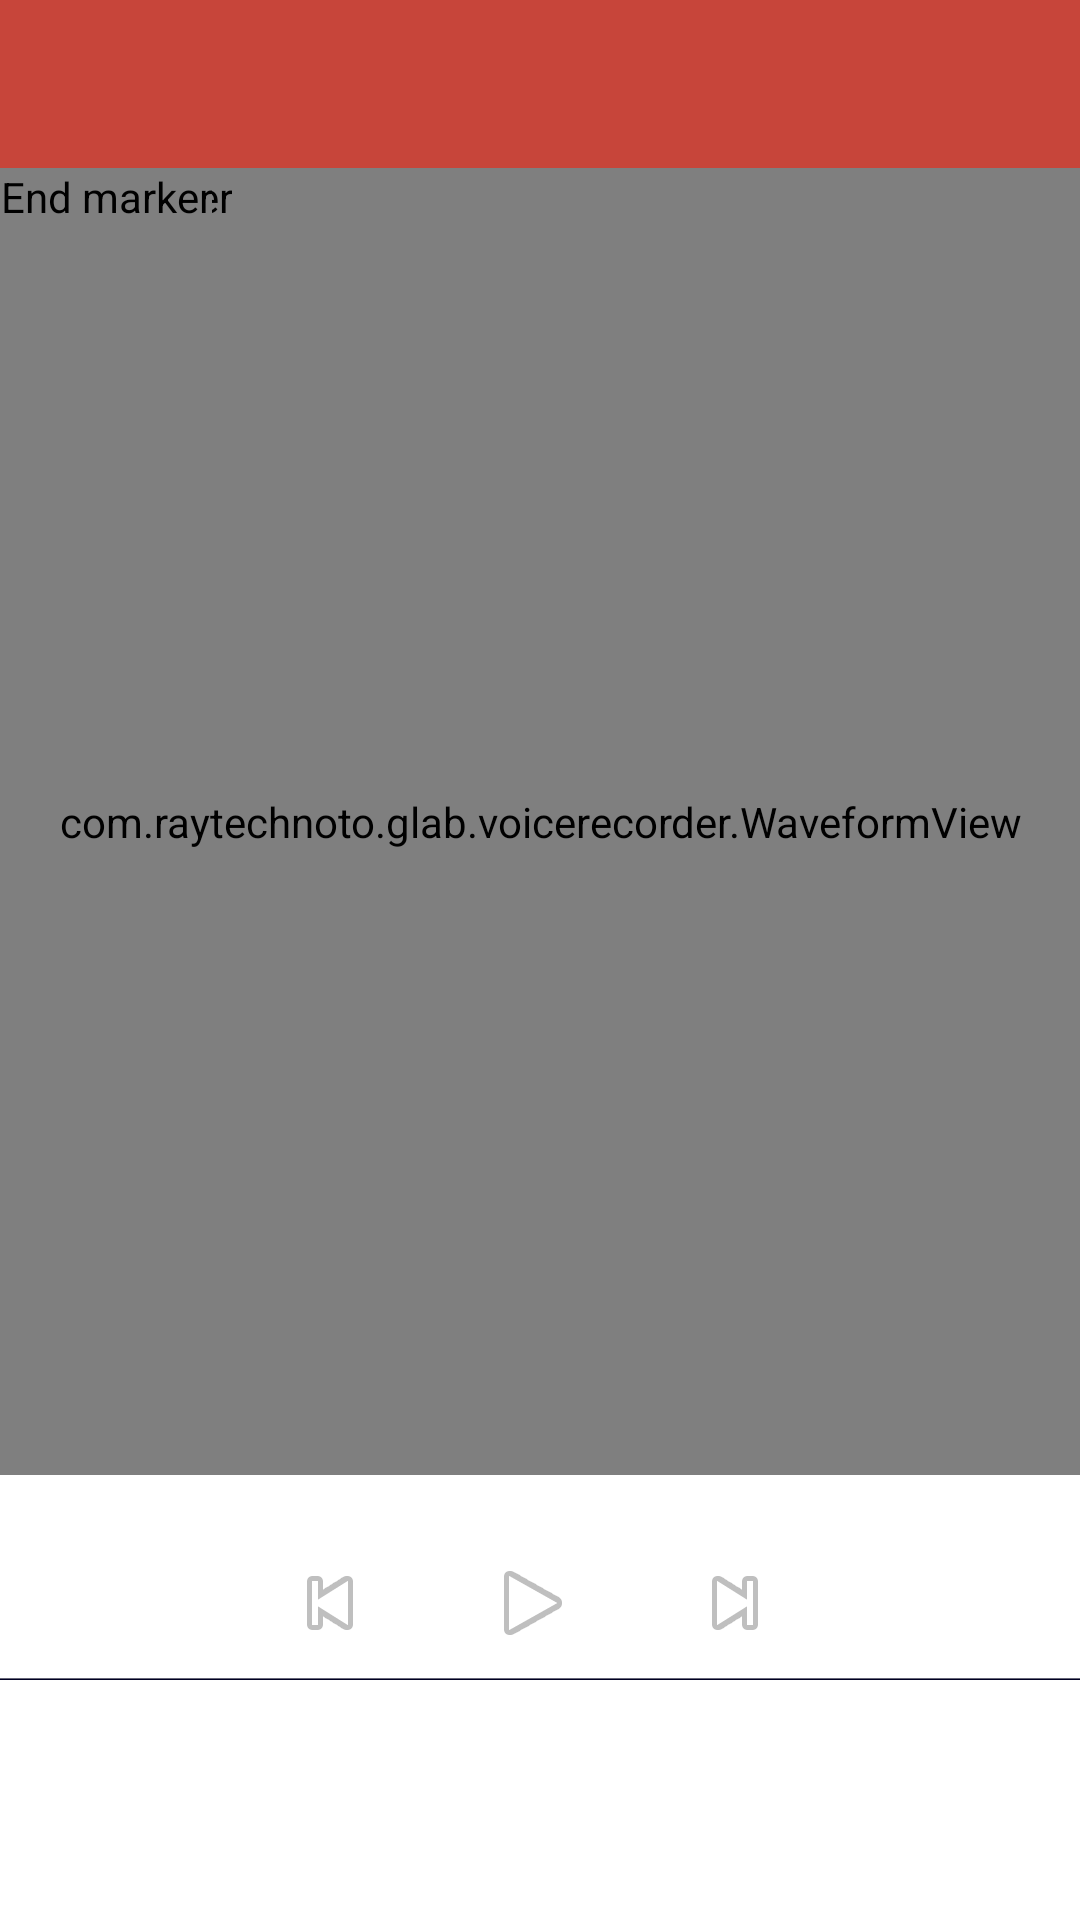

Locate icon controls on the screen. Image size 1080*1920, boxes as (x1, y1, x2, y2).
Fast forward: (712, 1576, 758, 1630)
Play: (504, 1571, 562, 1635)
Rewind: (307, 1576, 353, 1630)
